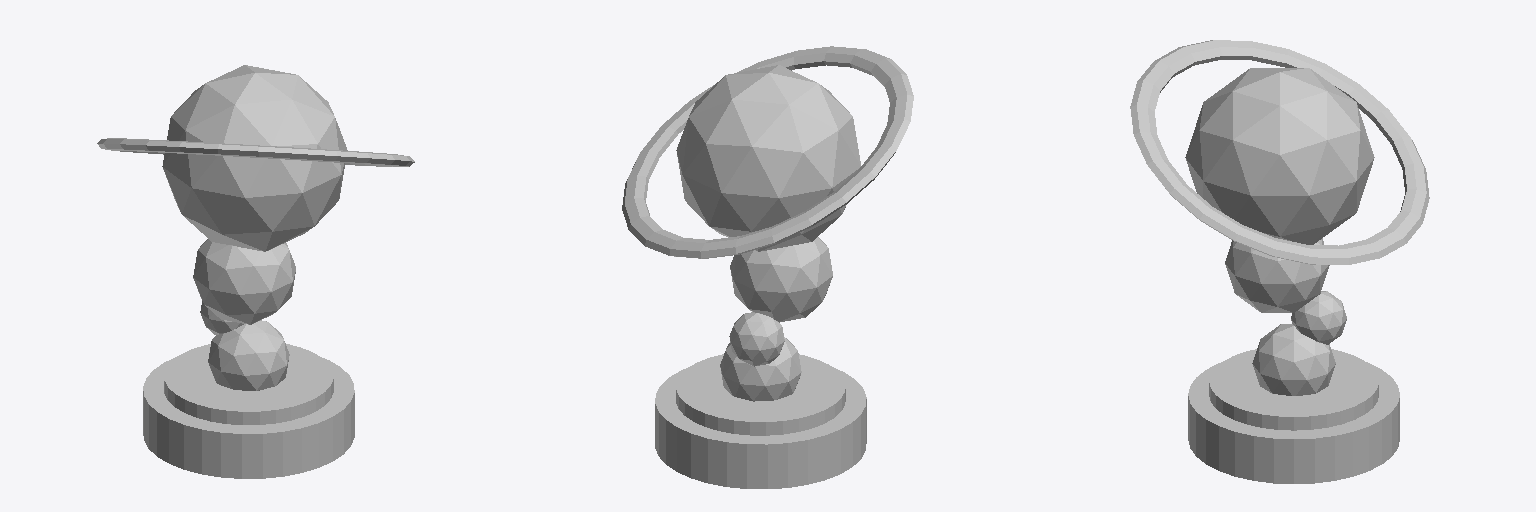
Rendered from statue.obj.
3 views of the same model, side by side, from view 1: azimuth 30°, elevation 25°; view 2: azimuth 150°, elevation 25°; view 3: azimuth 270°, elevation 25° (orthographic).
Visible parts, largest first — view 1: statue; view 2: statue; view 3: statue.
Boxes of the visible parts, <box> form: statue: <box>97,65,414,478</box>; statue: <box>622,46,913,488</box>; statue: <box>1130,40,1429,483</box>.
Bounding box in the file's own units: 7.36 × 9.7 × 7.17.